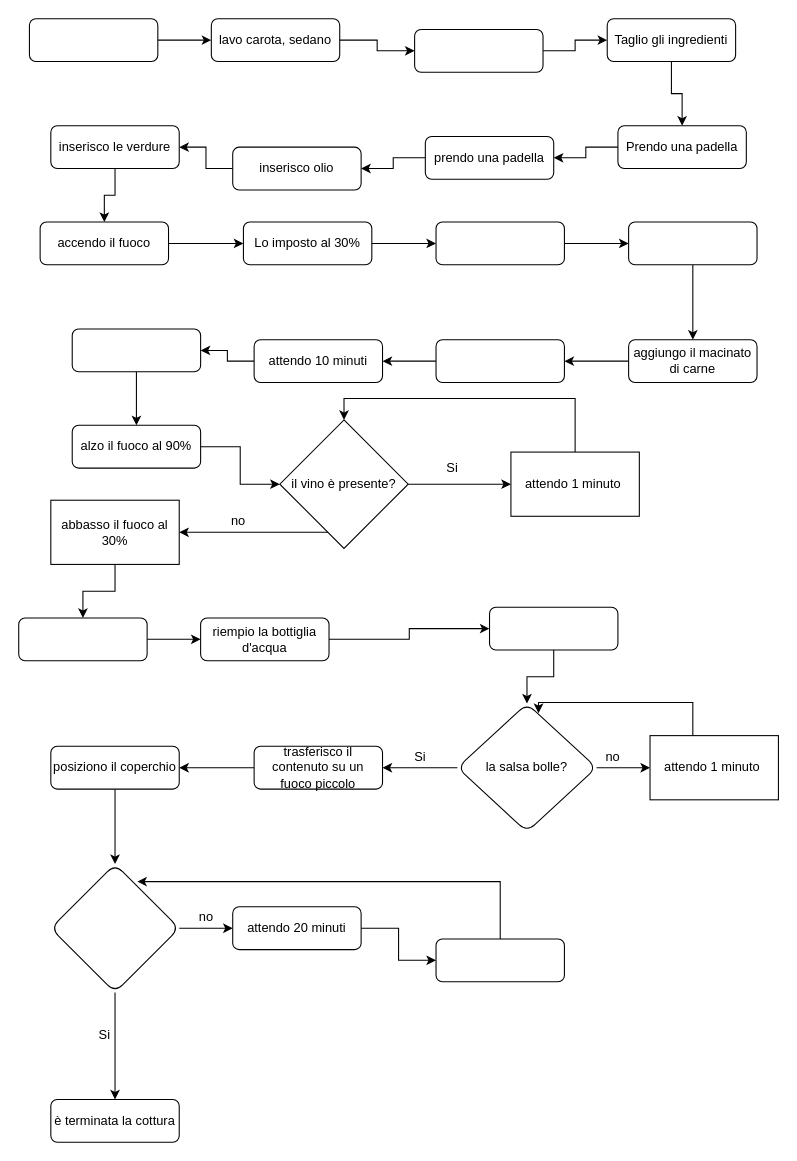
This 797x1161 diagram has some shape labels left out. The shapes that lost their labels are listed below. From the top down, each one's centre as x and y in pixels, then its label:
At point 93,40: "Ragù".
At point 478,50: "pulisco cipolla".
At point 499,243: "Attendo 5 minuti".
At point 692,243: "Aggiungo rosmarino".
At point 136,350: "aggiungo il vino".
At point 499,361: "alzo il fuoco al 50%".
At point 82,639: "aggiungo pomodoro".
At point 553,628: "svuoto il contenuto nella padella".
At point 114,927: "Sono passate 3 ore?".
At point 499,960: "tolgo il coperchio, giro la salsa, rimetto il coperchio".
